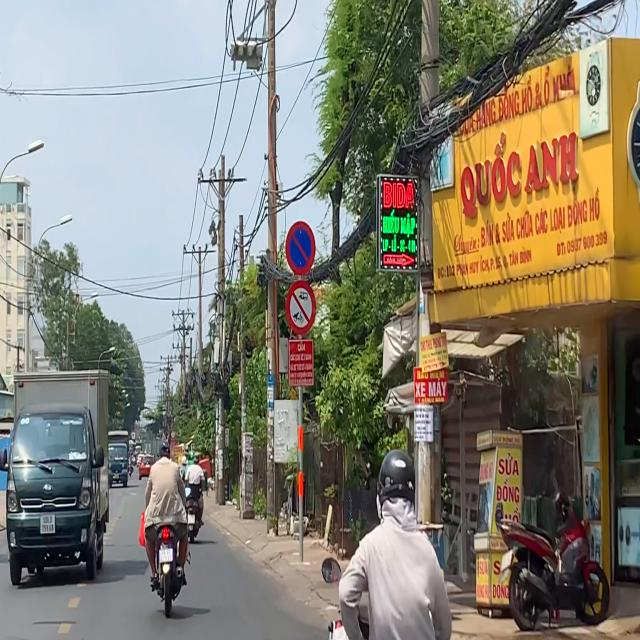Cam con lai: (286, 280, 316, 336)
Cam do: (285, 220, 316, 276)
